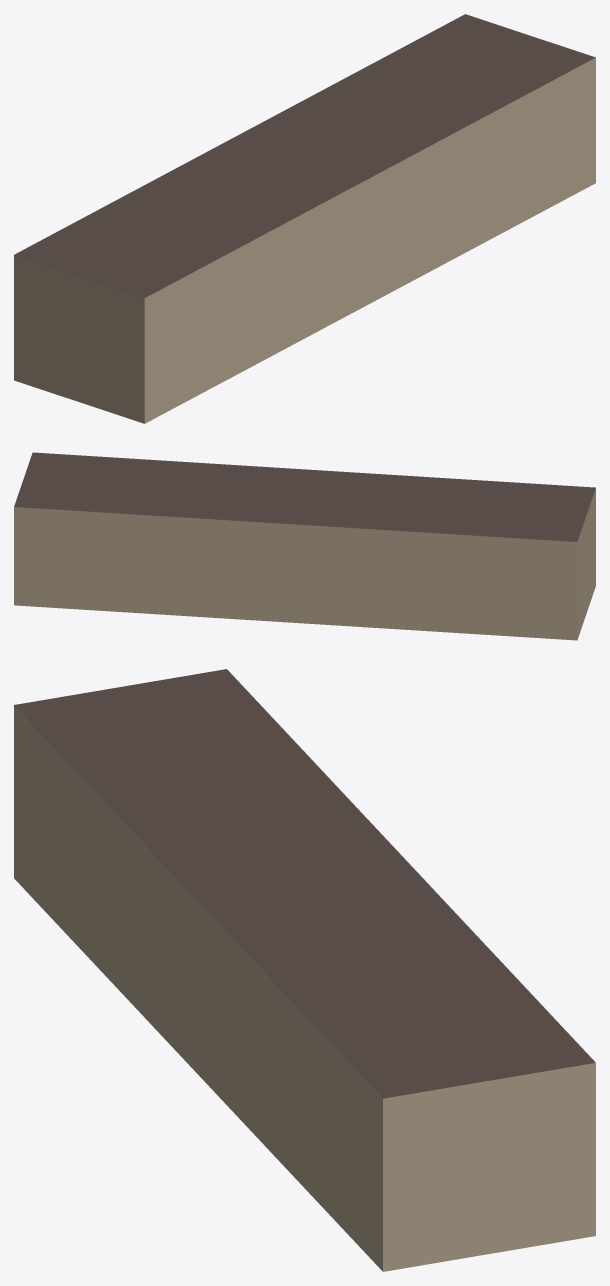
The picture shows the model from 3 angles, top to bottom: view 1: azimuth 30°, elevation 25°; view 2: azimuth 150°, elevation 25°; view 3: azimuth 270°, elevation 25°; orthographic projection. The views are drawn at different scales.
Parts seen in each view (by area): view 1: HP-w298243650; view 2: HP-w298243650; view 3: HP-w298243650.
Part boxes in pixels (x1,y1,x2,y2): HP-w298243650: (14, 14, 595, 423); HP-w298243650: (14, 452, 595, 640); HP-w298243650: (14, 669, 595, 1271).
Size of the model in its own units: 47.86 by 9 by 27.4.
